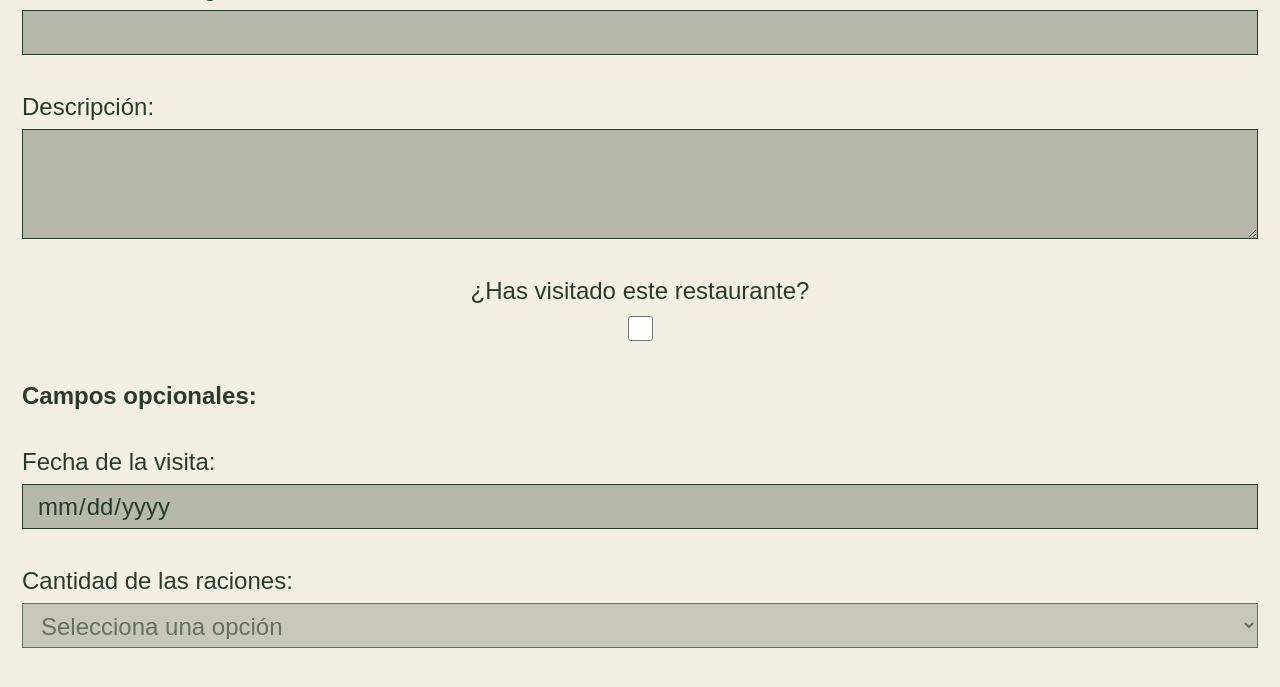
Test: Given the RestaurantForm component › When it receives an action to add a new restaurant › And the user selects the checkbox › Then it should show all the optional fields enabled
(page scrolled)
Click the checkbox labelled "¿Has visitado este restaurante?".
click(640, 328)  # box [628,316,653,341]
(page scrolled)
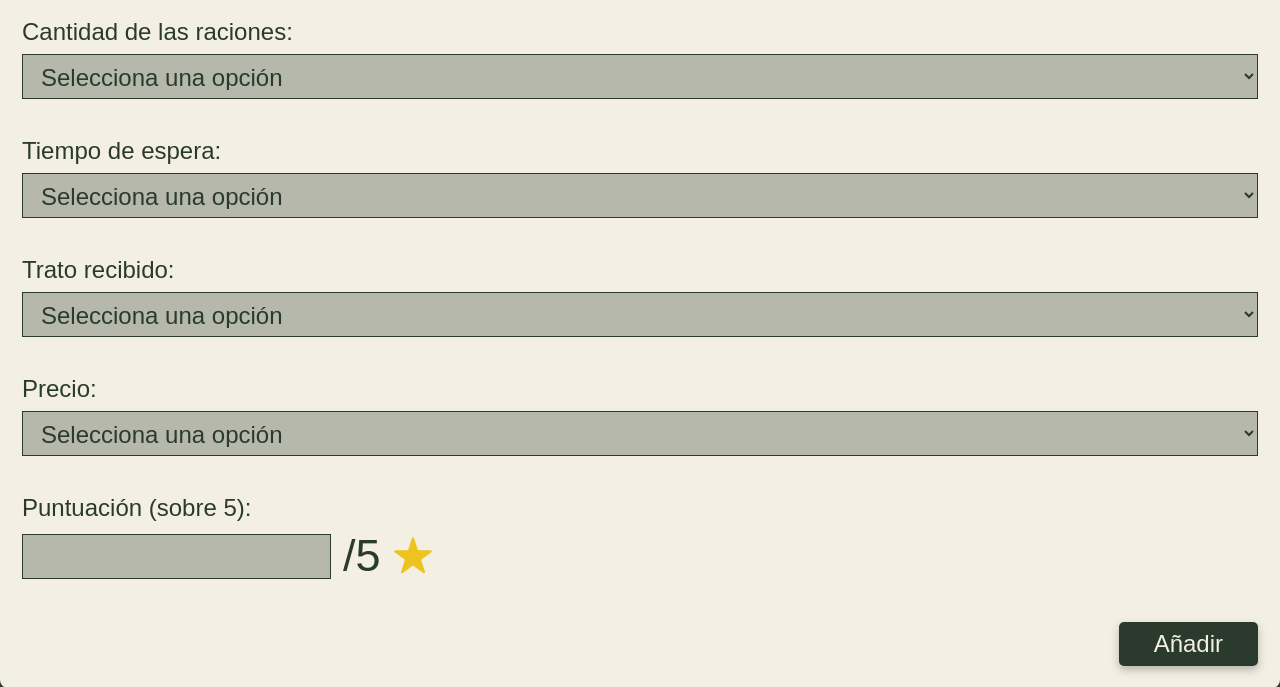
Check: the dropdown labelled "Cantidad de las raciones:" is enabled, box [22,54,1258,99]
Check: the dropdown labelled "Trato recibido:" is enabled, box [22,292,1258,337]
Check: the dropdown labelled "Precio:" is enabled, box [22,411,1258,456]
